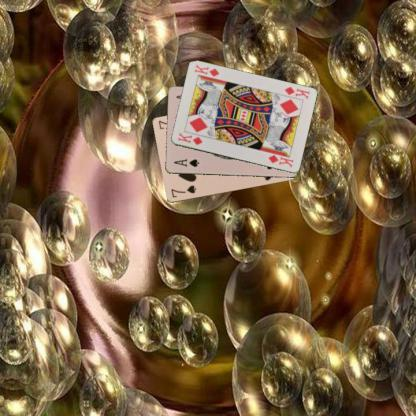7s: (168, 182, 198, 198)
As: (171, 157, 200, 168)
Kd: (175, 130, 204, 147), (282, 83, 311, 100)
